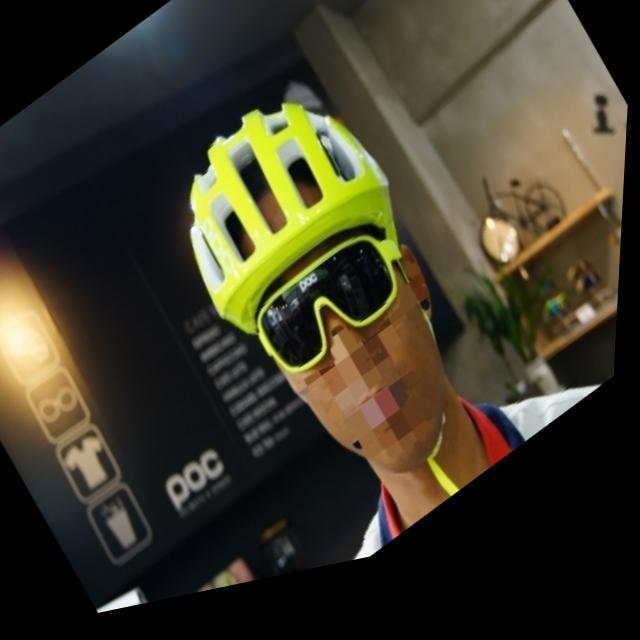Helmet: (182, 95, 460, 474)
